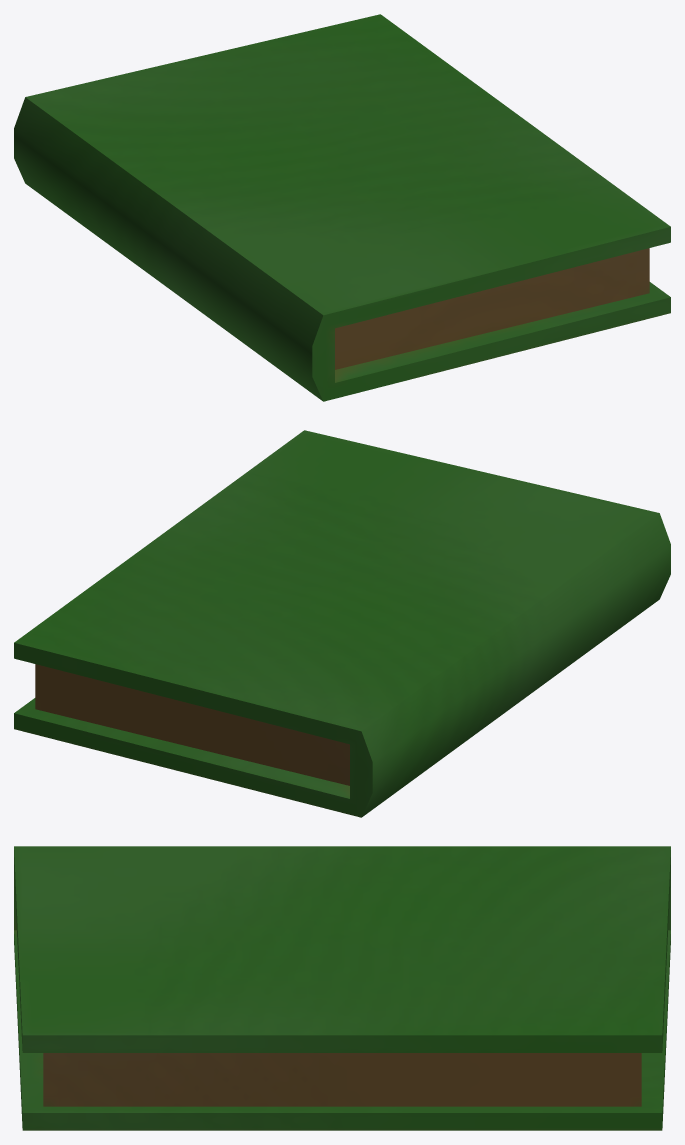
The model's file is GreenBook.fbx.
The picture shows the model from 3 angles, top to bottom: view 1: azimuth 30°, elevation 25°; view 2: azimuth 150°, elevation 25°; view 3: azimuth 270°, elevation 25°; orthographic projection. The views are drawn at different scales.
Parts seen in each view (by area): view 1: GreenBook; view 2: GreenBook; view 3: GreenBook.
Boxes of the visible parts, x1=… form: GreenBook: x1=14, y1=14, x2=670, y2=401; GreenBook: x1=14, y1=430, x2=670, y2=817; GreenBook: x1=14, y1=846, x2=670, y2=1130.
Size of the model in its own units: 214 by 48.61 by 304.
